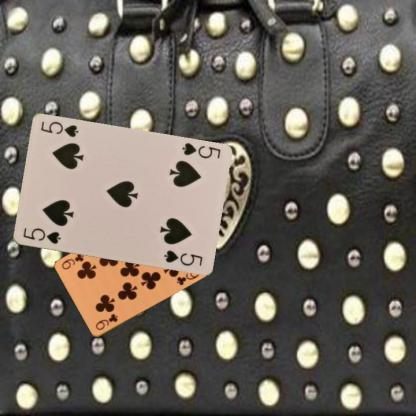5s: (179, 140, 221, 160), (20, 226, 61, 246)
9c: (93, 310, 119, 332)
